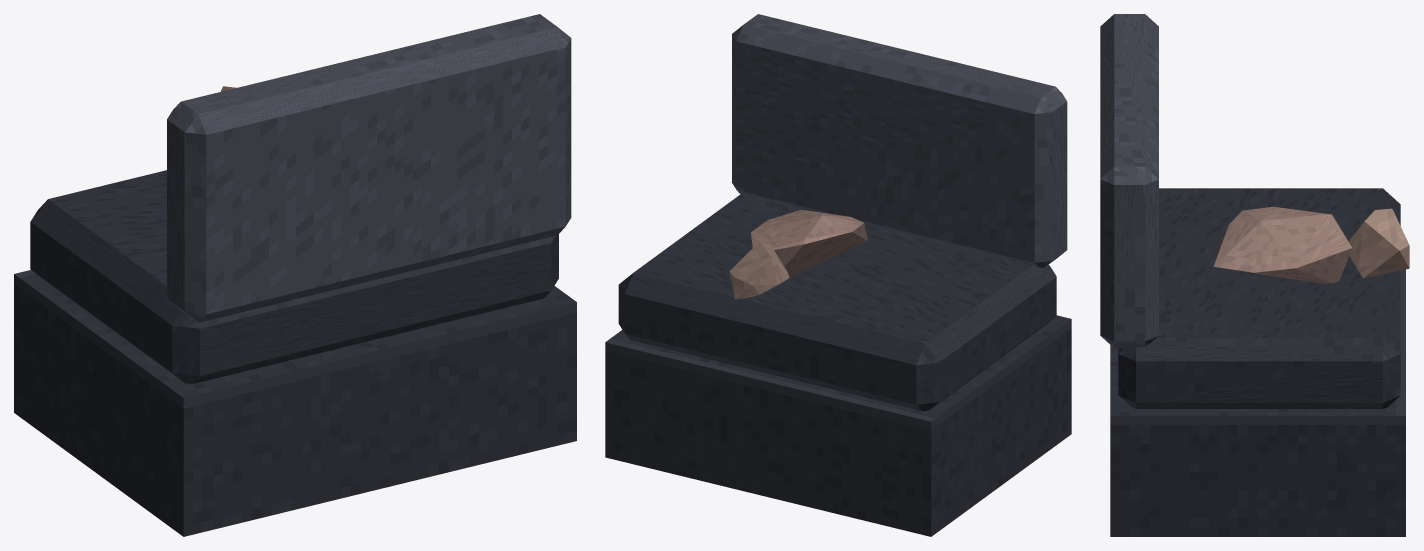
The model's file is f_vitrified_doll.glb.
3 renders of one model, left to right at view 1: azimuth 30°, elevation 25°; view 2: azimuth 150°, elevation 25°; view 3: azimuth 270°, elevation 25°, orthographic. The views are drawn at different scales.
Parts seen in each view (by area): view 1: block_glass-sofa-back, block_black-glass-sofa-base, block_hard-glass-cushion; view 2: block_glass-sofa-back, block_black-glass-sofa-base, block_hard-glass-cushion, block_featureless-plush-torso, block_empty-plush-head; view 3: block_hard-glass-cushion, block_black-glass-sofa-base, block_glass-sofa-back, block_featureless-plush-torso, block_empty-plush-head.
Boxes of the visible parts, box(x1,y1,x2,y2) form: block_glass-sofa-back: box(167, 14, 571, 322); block_black-glass-sofa-base: box(14, 270, 576, 536); block_hard-glass-cushion: box(30, 170, 558, 384); block_glass-sofa-back: box(732, 14, 1067, 267); block_black-glass-sofa-base: box(605, 315, 1071, 536); block_hard-glass-cushion: box(618, 193, 1056, 411); block_featureless-plush-torso: box(751, 209, 867, 277); block_empty-plush-head: box(729, 241, 789, 299); block_hard-glass-cushion: box(1118, 188, 1400, 408); block_black-glass-sofa-base: box(1110, 269, 1405, 536); block_glass-sofa-back: box(1100, 14, 1158, 348); block_featureless-plush-torso: box(1213, 206, 1352, 283); block_empty-plush-head: box(1348, 208, 1409, 278).
Bounding box in the file's own units: 0.83 × 0.84 × 0.6487.
Materials: 2 (2 with a texture image).
